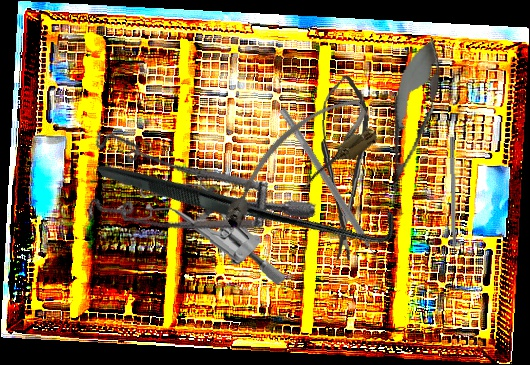Cannula: (203, 86, 385, 239)
Hook Surgical: (95, 42, 404, 354), (448, 136, 458, 270)
Micro Scissor: (371, 32, 451, 211), (315, 74, 371, 262)
Spatula Surgical: (272, 107, 389, 274)
Speculum: (61, 74, 320, 284), (111, 176, 290, 287)
